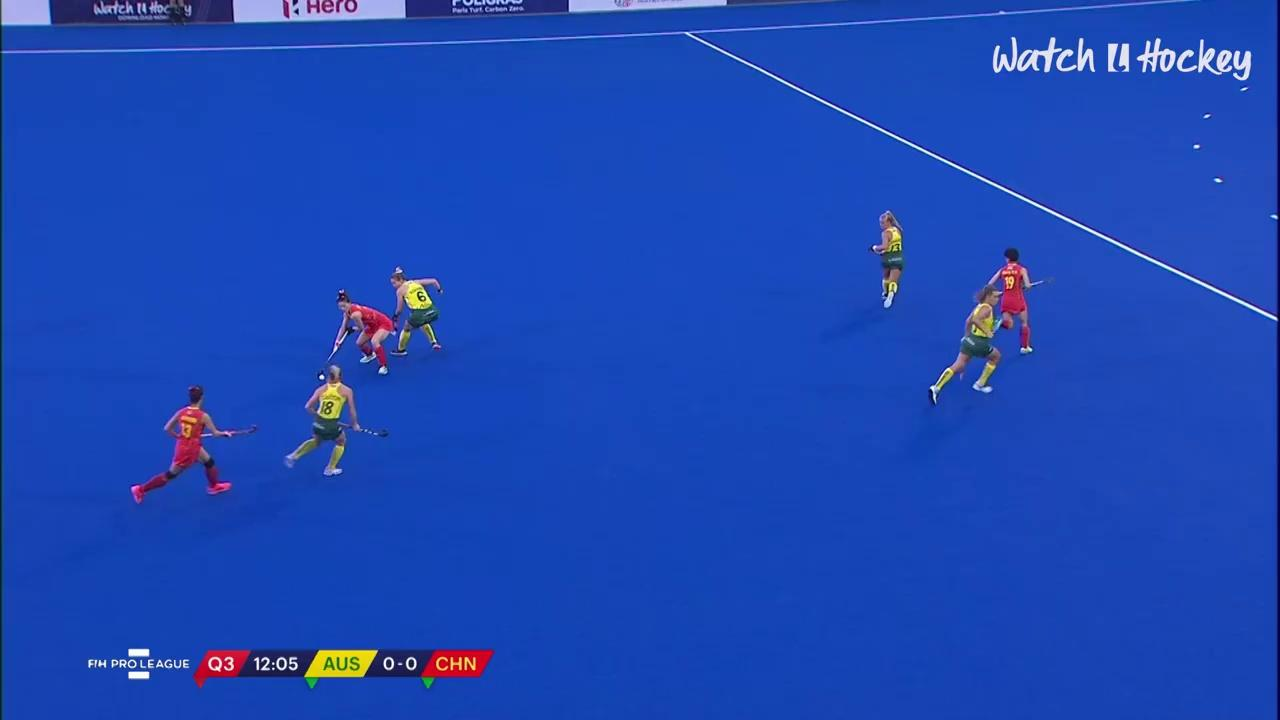ball: (312, 368, 326, 386)
